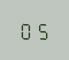five: (34, 19, 48, 40)
zero: (19, 19, 33, 39)
